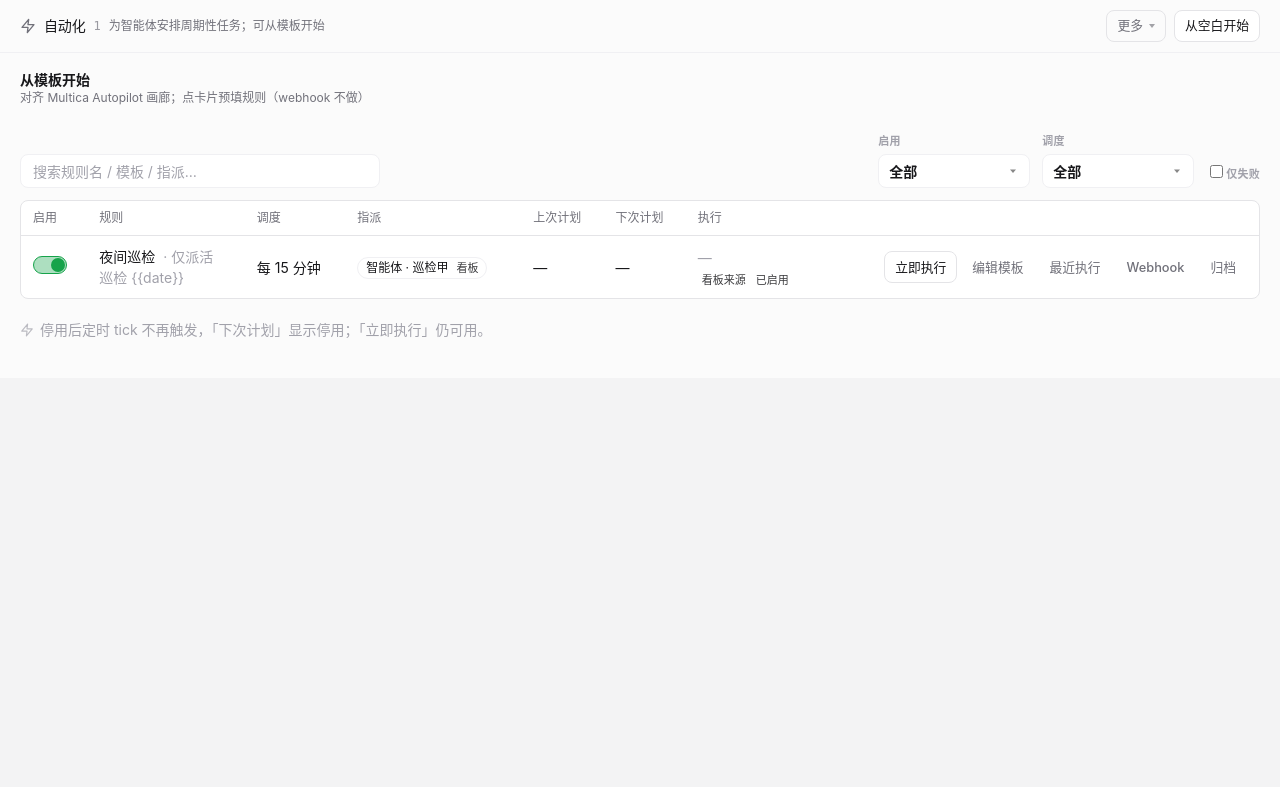
Scenario: AutomationPage webhook section › renders recent deliveries with status, time and an automation-run deep link
Click the button with test id "automation-webhook-toggle-rule-1" at (1155, 267), box [1116,251,1195,283]
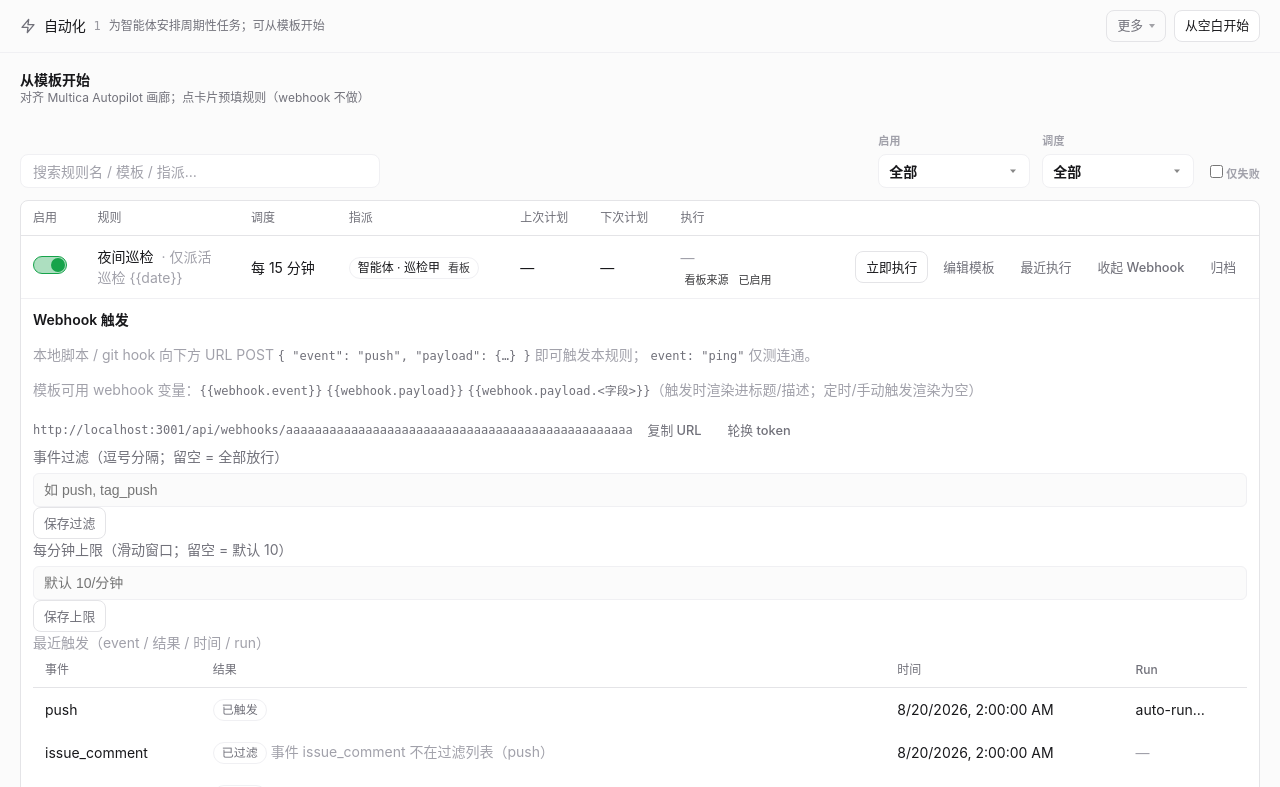
Check: the element with test id "automation-webhook-deliveries" shows "push", box [45,701,78,718]
Check: the element with test id "automation-webhook-deliveries" shows "已触发", box [222,703,258,717]
Check: the element with test id "automation-webhook-deliveries" shows "issue_comment", box [45,744,148,761]
